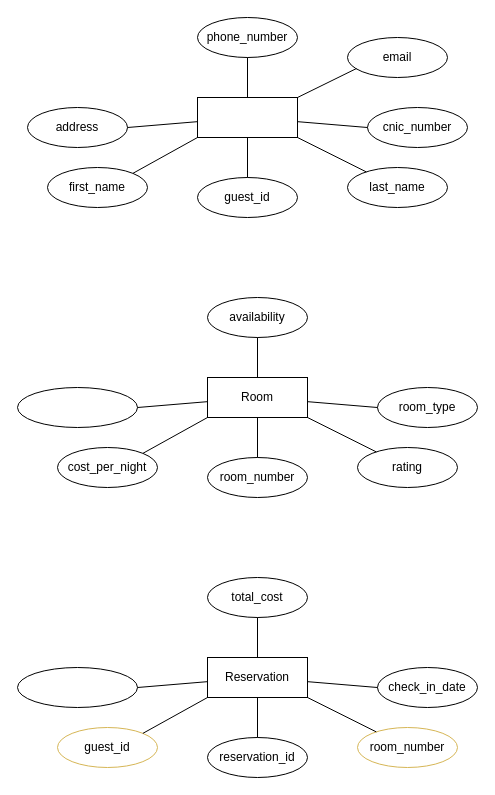
Image size: 495x795. Some labels were removed from this diagram. Here are the shapes that lost their labels. From the top down, the centre of each, then its label:
point (247, 117): Guest
point (77, 407): number_of_beds
point (77, 687): check_out_date
